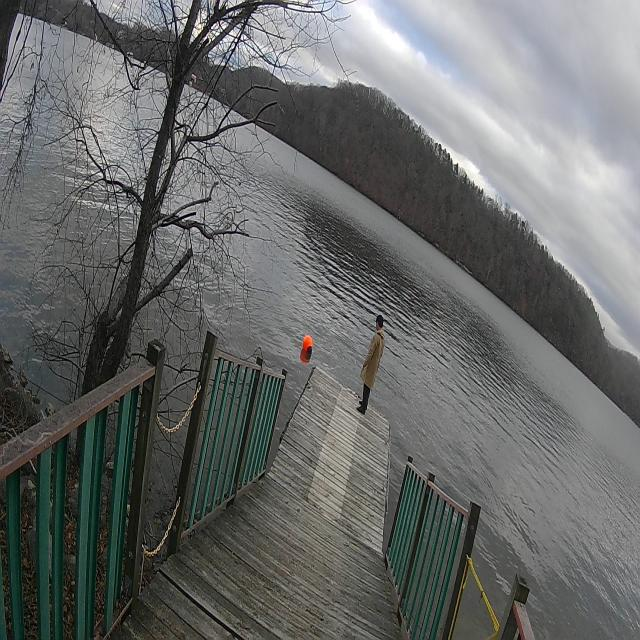Buoy: (301, 332, 315, 361)
